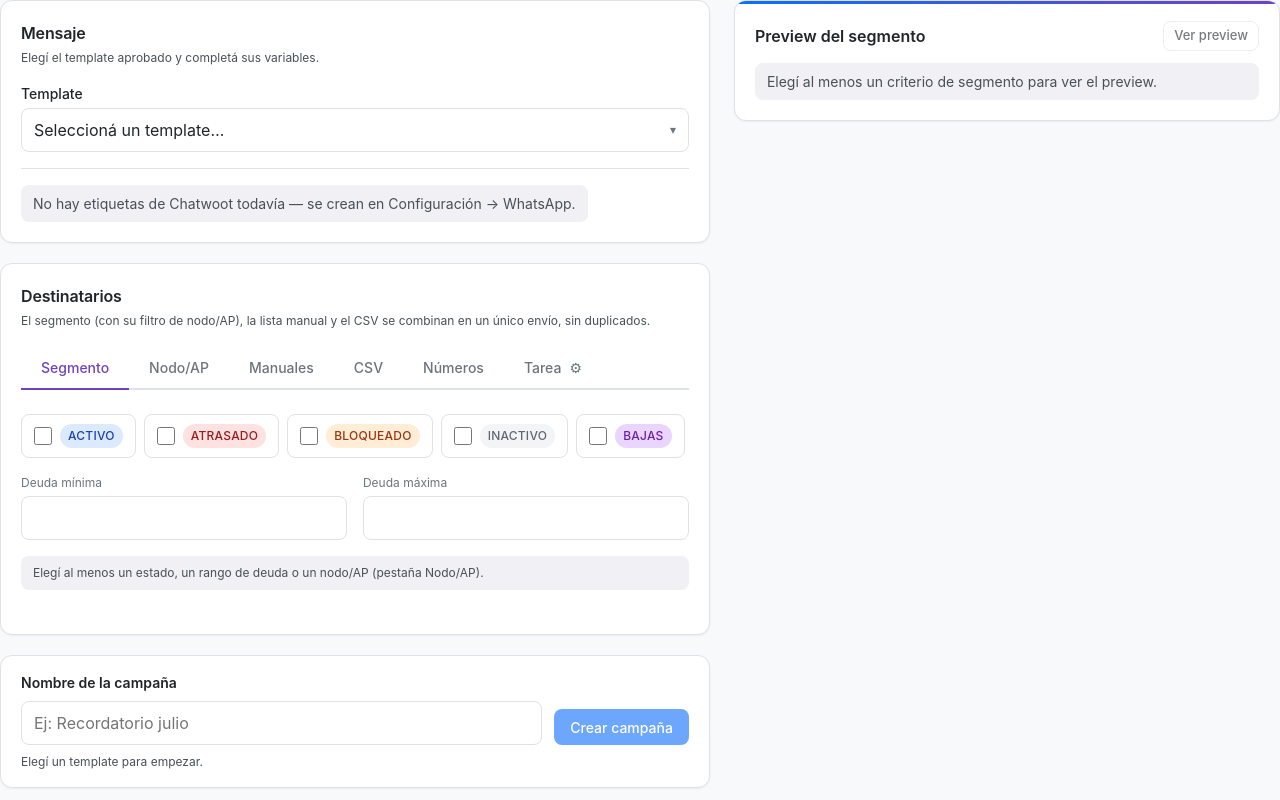
CC-6: preview con count=0 › deshabilita "Crear campaña" (guard EMPTY_SEGMENT)
Click the checkbox labelled "Atrasado".
click(166, 436)  # box [157, 427, 175, 445]
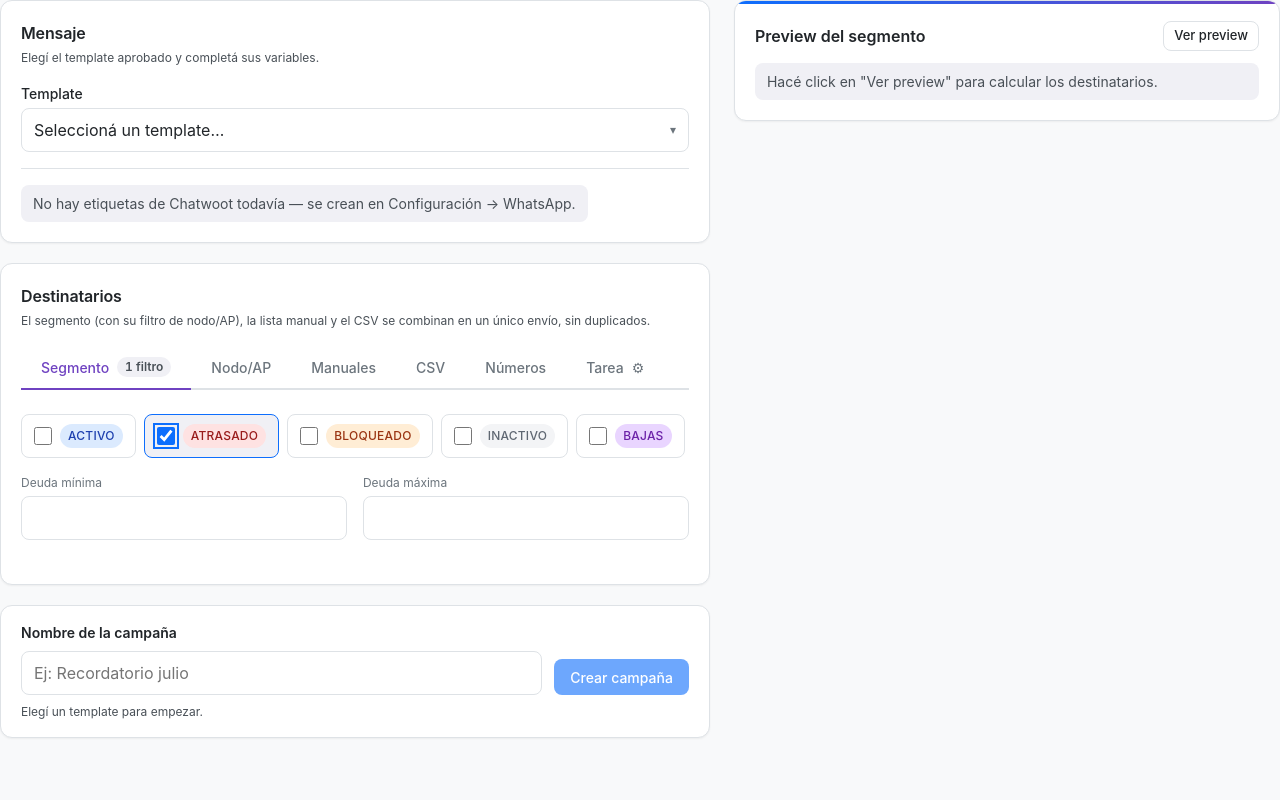
Click the button "Ver preview".
click(1211, 36)  # box [1163, 21, 1259, 50]
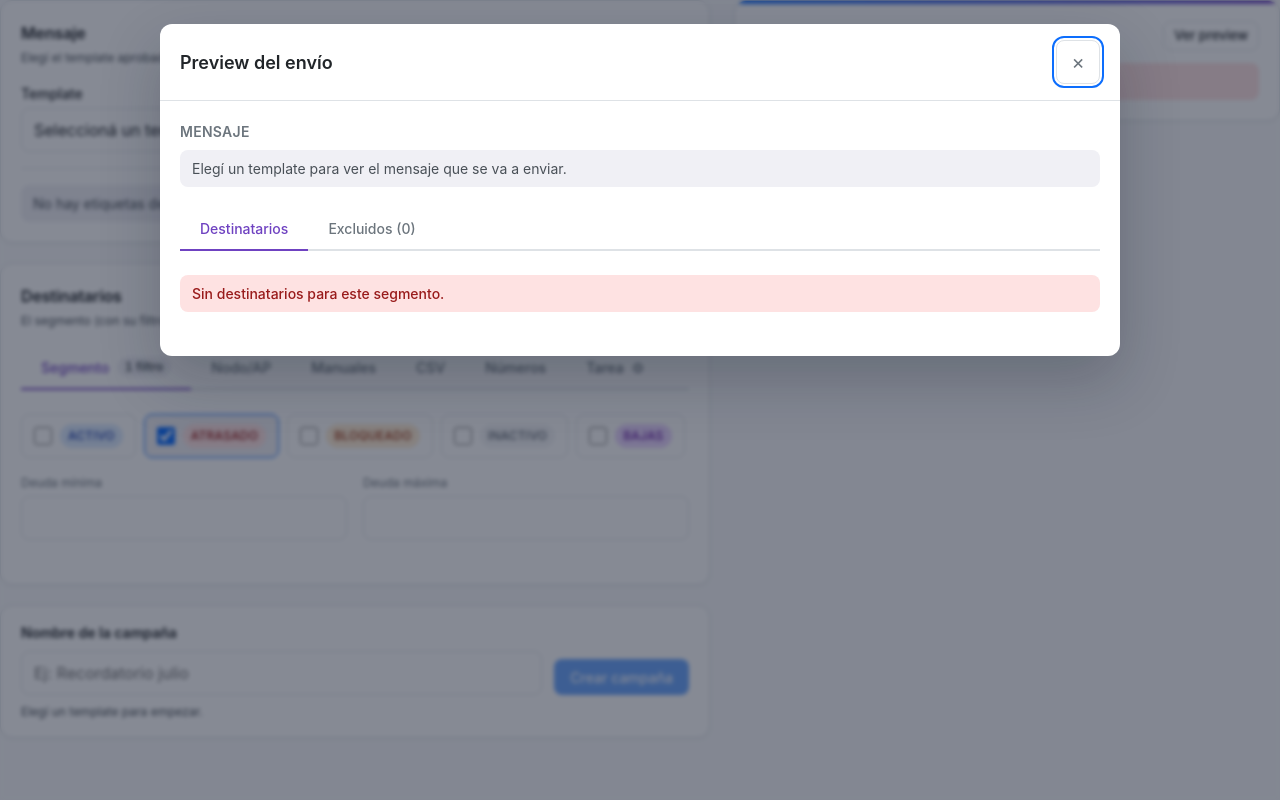
Expected: the button "Crear campaña" is disabled, [554, 659, 689, 695]
Expected: the text "0 destinatarios — revisá el segmento." is shown, [755, 62, 1259, 100]
